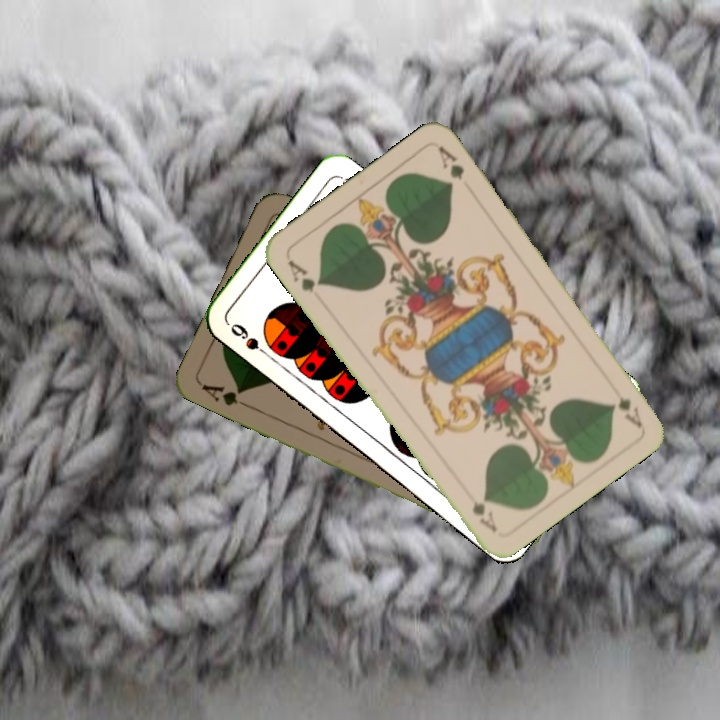GA: (605, 379, 645, 430), (197, 380, 254, 412), (284, 256, 325, 295)
S9: (226, 319, 275, 362)
